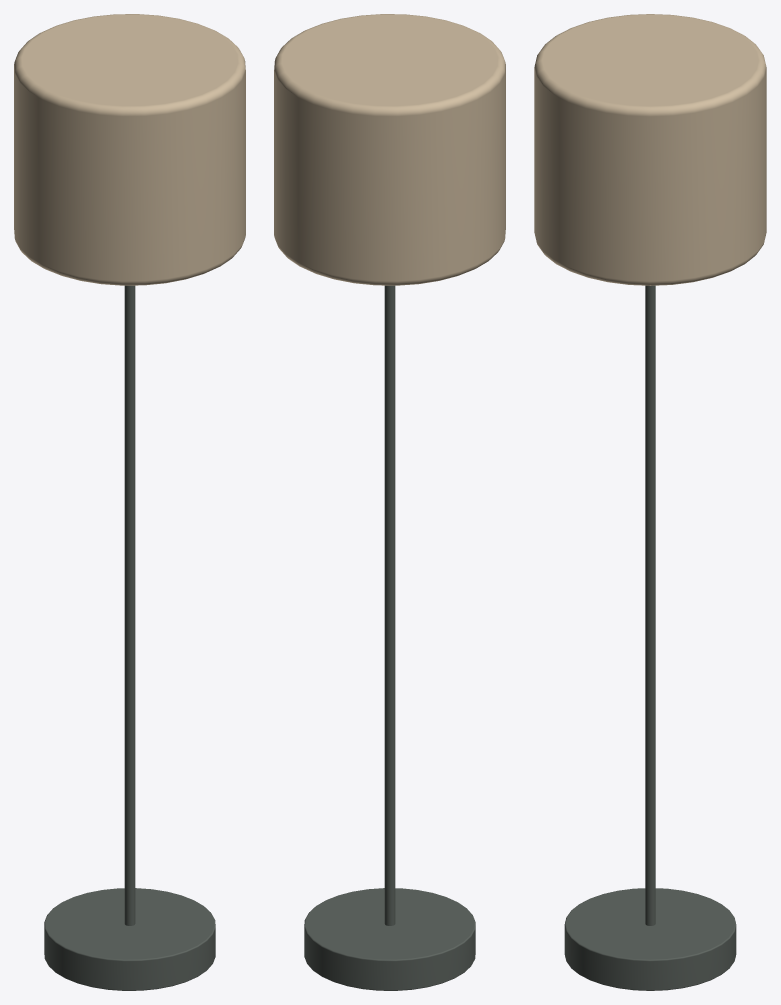
3 views of the same model, side by side, from view 1: azimuth 30°, elevation 25°; view 2: azimuth 150°, elevation 25°; view 3: azimuth 270°, elevation 25° (orthographic).
Parts seen in each view (by area): view 1: shade, base, stem; view 2: shade, base, stem; view 3: shade, base, stem.
Boxes of the visible parts, left/top/right/bottom form: shade: left=14, top=14, right=245, bottom=285; base: left=44, top=888, right=215, bottom=990; stem: left=124, top=285, right=135, bottom=925; shade: left=274, top=14, right=505, bottom=285; base: left=304, top=888, right=475, bottom=990; stem: left=384, top=285, right=395, bottom=925; shade: left=534, top=14, right=766, bottom=285; base: left=564, top=888, right=736, bottom=990; stem: left=645, top=285, right=655, bottom=925.
Bounding box in the file's own units: 0.4 × 1.7 × 0.4.
